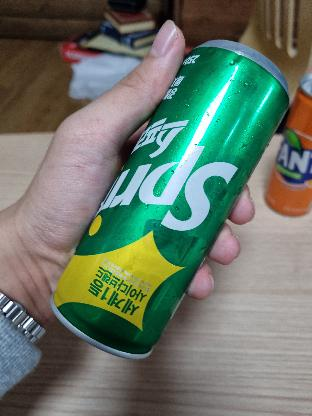Can: (53, 52, 275, 350)
